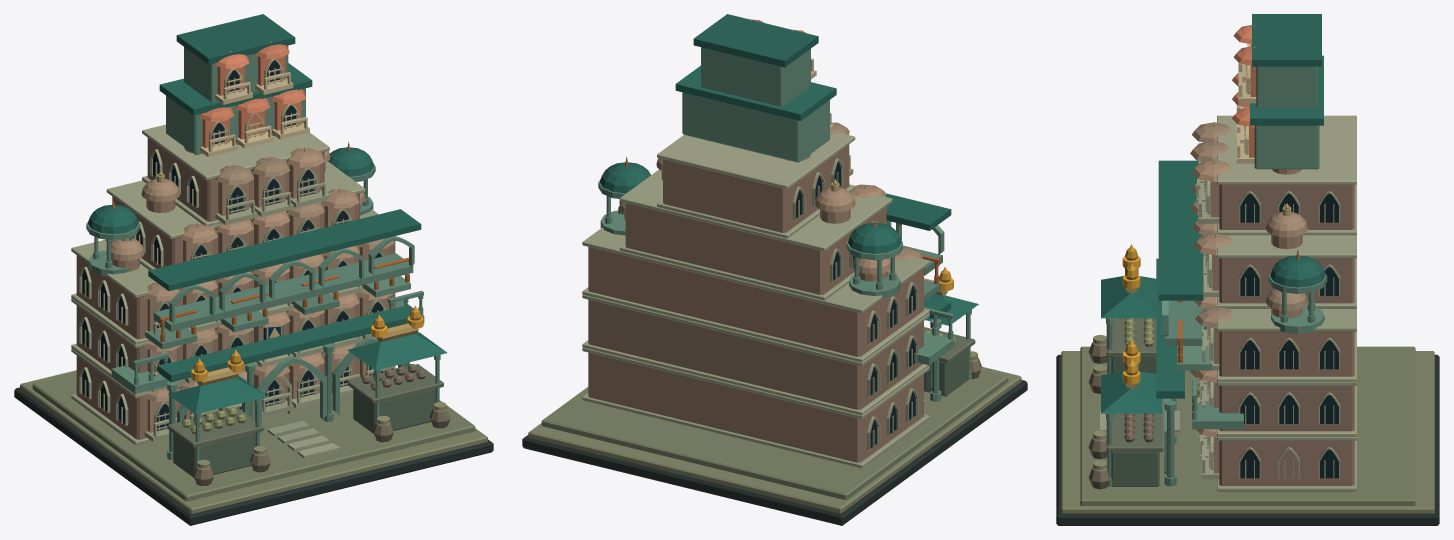
The picture shows the model from 3 angles, left to right: view 1: azimuth 30°, elevation 25°; view 2: azimuth 150°, elevation 25°; view 3: azimuth 270°, elevation 25°; orthographic projection. The views are drawn at different scales.
Parts seen in each view (by area): view 1: market_L9_0, market_L9_1; view 2: market_L9_0; view 3: market_L9_0, market_L9_1.
Part boxes in pixels (box(x1,y1,x2,y2)): market_L9_0: box(14, 14, 493, 525); market_L9_1: box(111, 142, 423, 381); market_L9_0: box(522, 14, 1027, 525); market_L9_0: box(1056, 14, 1439, 525); market_L9_1: box(1122, 203, 1299, 384).
Size of the model in its own units: 5.6 by 6.64 by 5.6.
